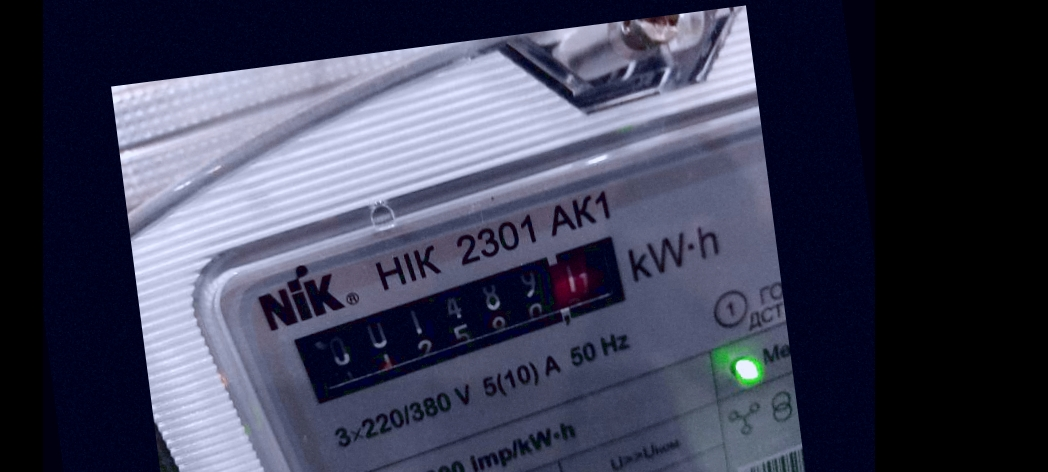0: (361, 312, 391, 351), (325, 331, 353, 369)
1: (558, 256, 582, 296), (404, 304, 428, 337)
4: (440, 289, 466, 322)
8: (479, 276, 505, 314)
9: (517, 265, 541, 299)
screen: (273, 221, 664, 418)
